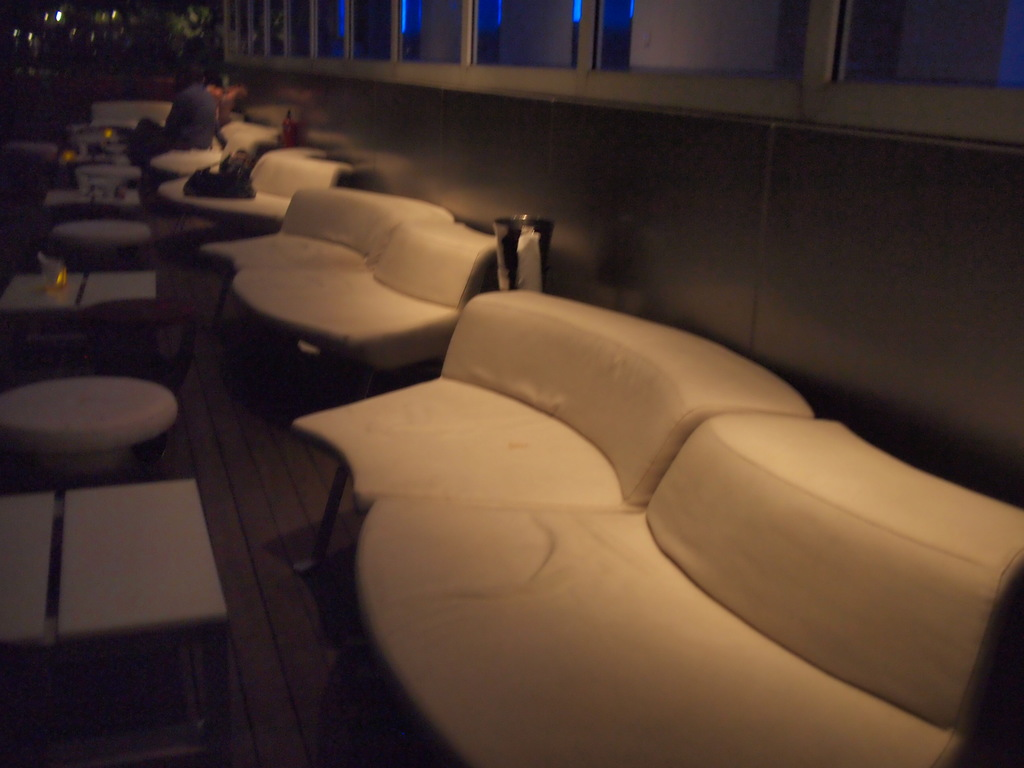Couch: (227, 212, 985, 768), (200, 177, 513, 397), (159, 132, 360, 227)
